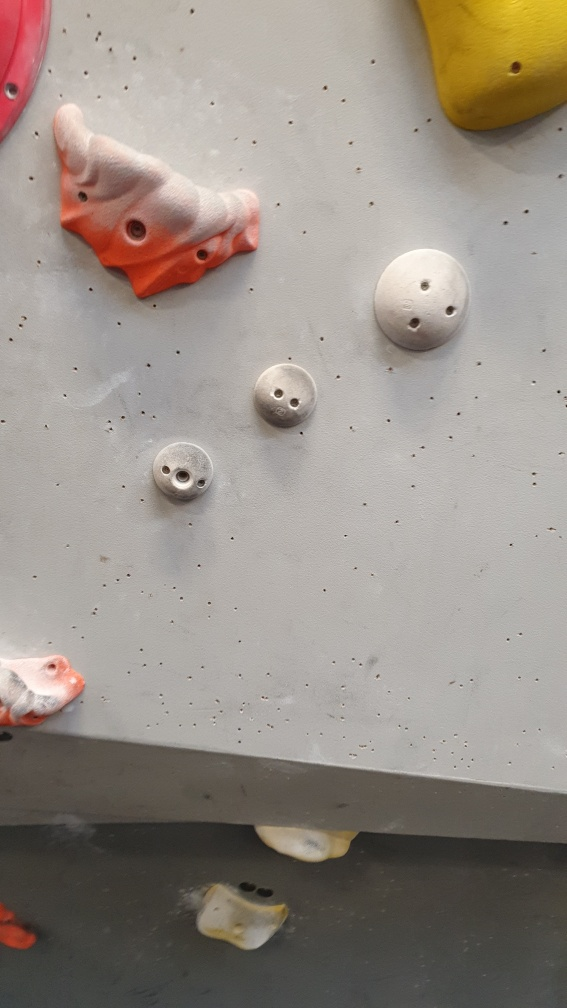Hand Start: (254, 882, 280, 902), (236, 874, 256, 895), (1, 731, 21, 747)
Jug: (45, 98, 269, 309), (1, 647, 90, 730), (1, 900, 47, 950)
Sloper: (371, 244, 475, 355), (249, 359, 320, 436), (149, 437, 216, 505)
